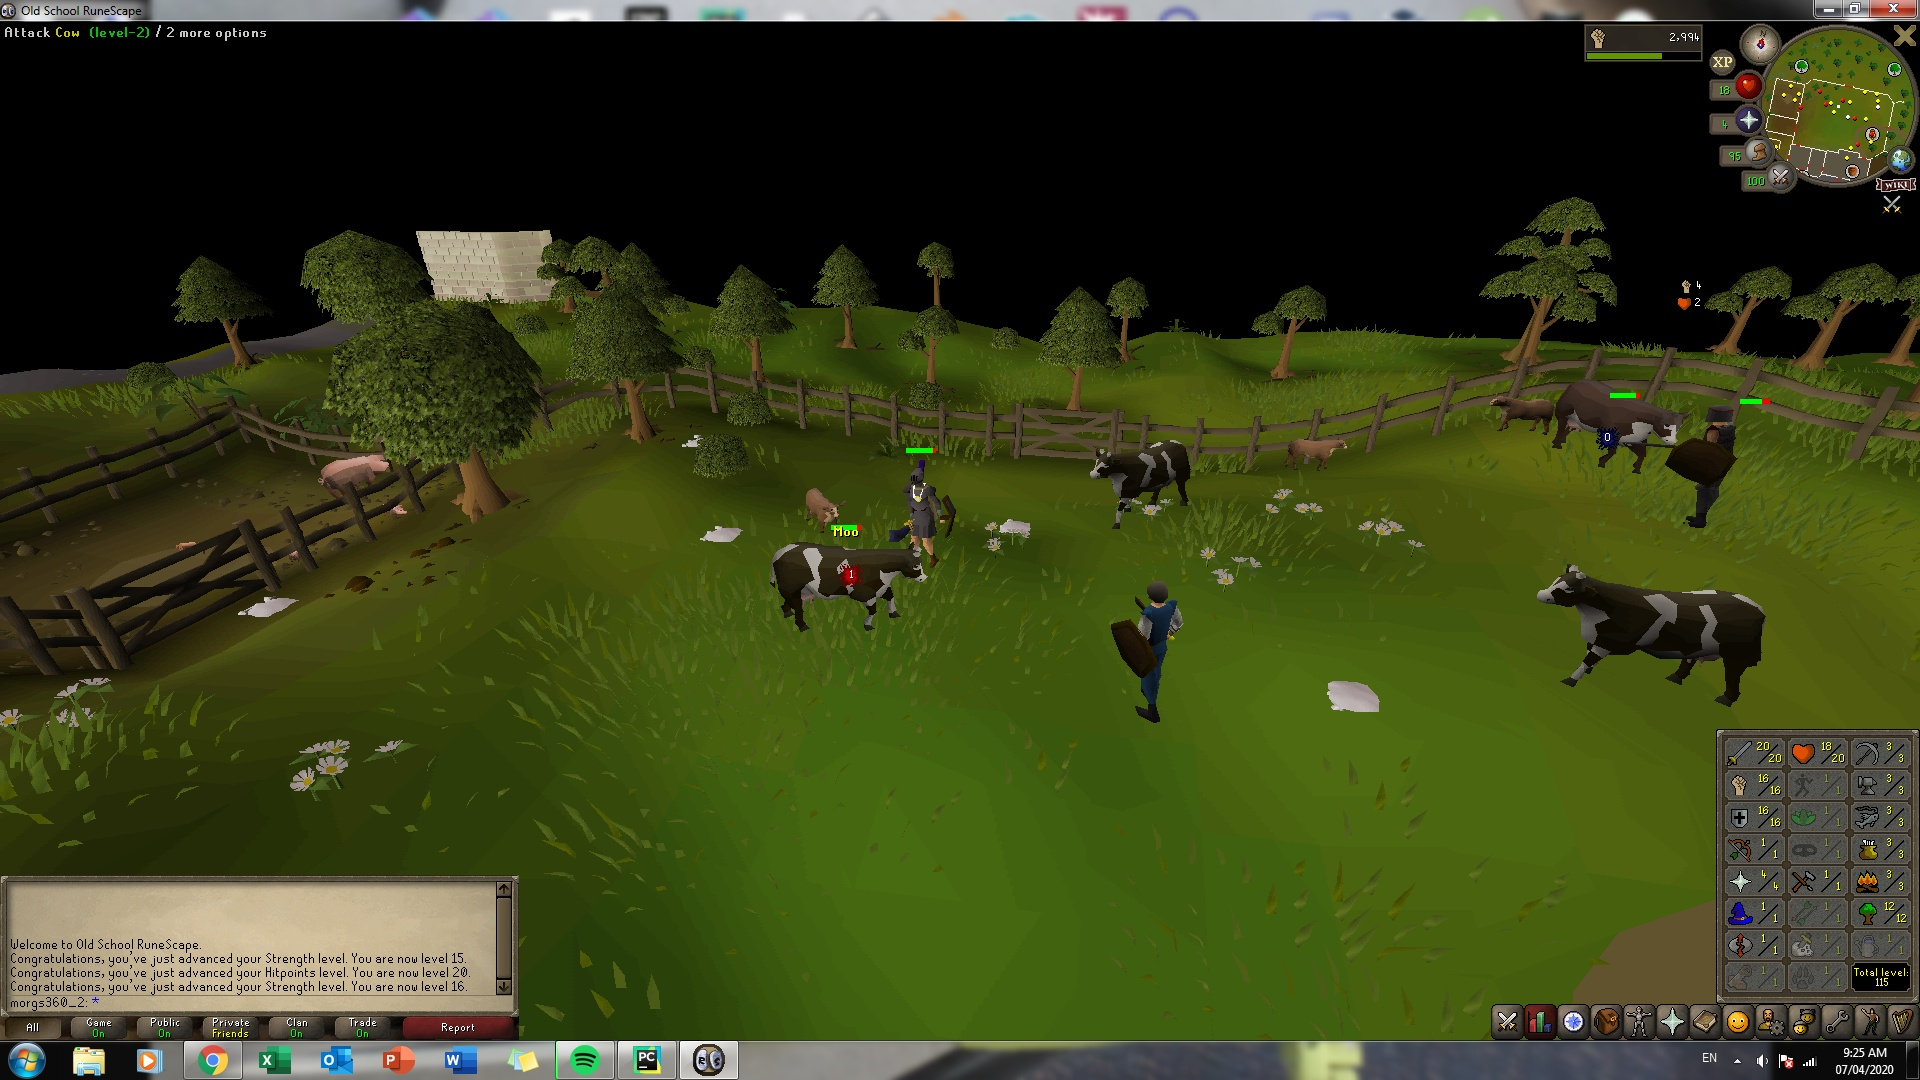cow: (1531, 560, 1766, 709), (764, 535, 928, 637), (1544, 376, 1691, 473), (1087, 430, 1196, 531)
